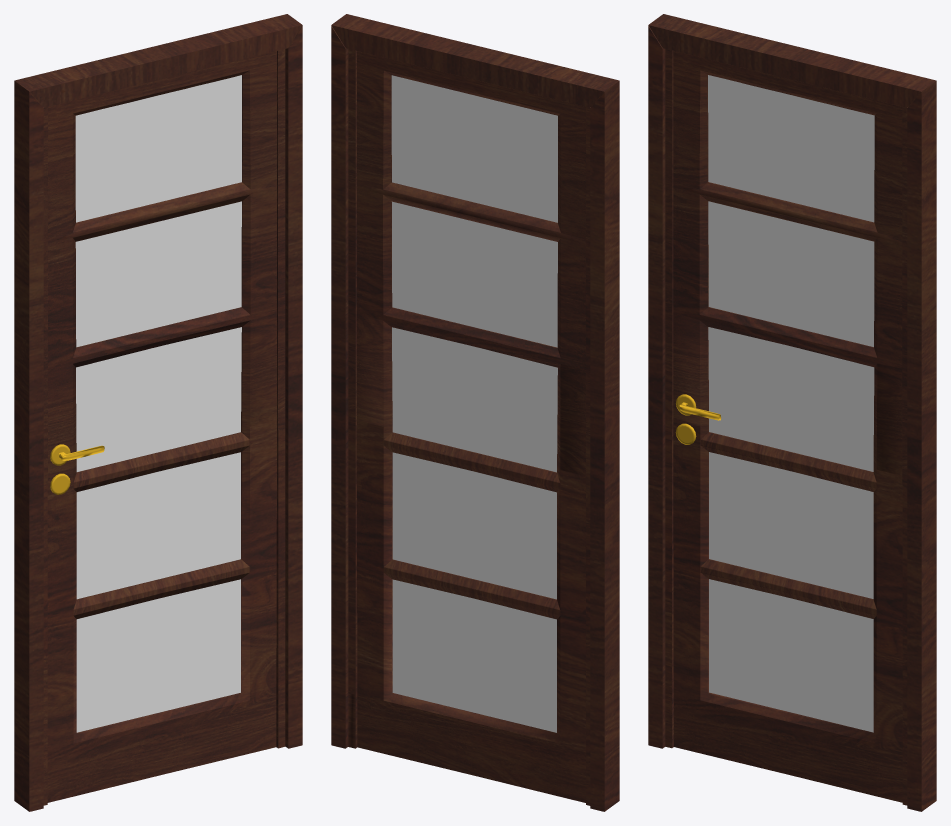
Rendered from PUERTA20_TAORMINA.glb.
3 renders of one model, left to right at view 1: azimuth 30°, elevation 25°; view 2: azimuth 150°, elevation 25°; view 3: azimuth 330°, elevation 25°, orthographic.
Visible parts, largest first — view 1: CRISTAL_GRANDE, Puerta20_CORTINA, Puerta20_Marco, Puerta20_TAORMINA; view 2: CRISTAL_GRANDE, Puerta20_CORTINA, Puerta20_Marco; view 3: CRISTAL_GRANDE, Puerta20_CORTINA, Puerta20_Marco, Puerta20_TAORMINA.
Part boxes in pixels (x1,y1,x2,y2): CRISTAL_GRANDE: (75,75,241,732); Puerta20_CORTINA: (43,49,285,805); Puerta20_Marco: (14,14,302,811); Puerta20_TAORMINA: (50,444,104,494); CRISTAL_GRANDE: (391,75,557,732); Puerta20_CORTINA: (348,49,590,805); Puerta20_Marco: (331,14,619,811); CRISTAL_GRANDE: (708,75,874,732); Puerta20_CORTINA: (665,49,907,805); Puerta20_Marco: (648,14,936,811); Puerta20_TAORMINA: (675,394,721,444).
Size of the model in its own units: 769 by 1936 by 85.
Materials: 5 (3 with a texture image).
